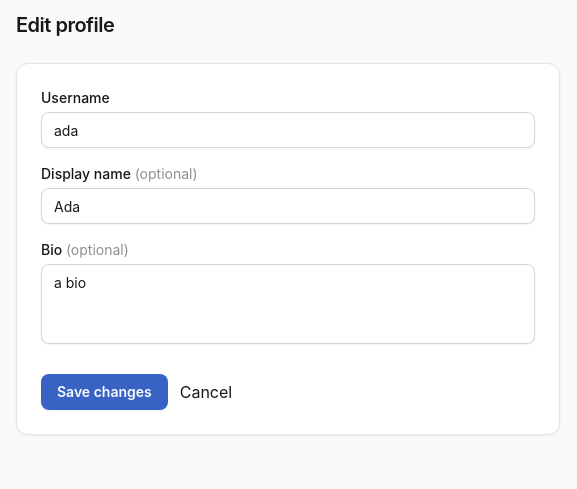
Test: an over-long display name or bio is reported inline
The image size is (577, 489).
Step 1. Replace the text in the text box labelled "Bio (optional)" with "way too long" → (288, 304), box [41, 264, 535, 344]
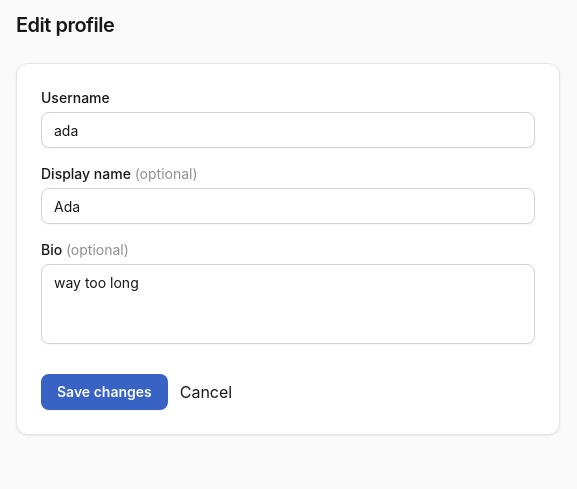
Step 2. Click the button "Save changes" → (104, 392), box [41, 374, 168, 410]
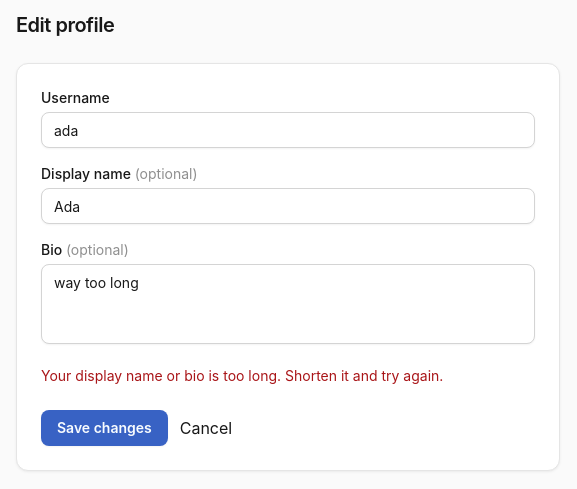
Now the text "Your display name or bio is too long. Shorten it and try again." is shown, box [41, 367, 443, 384]
